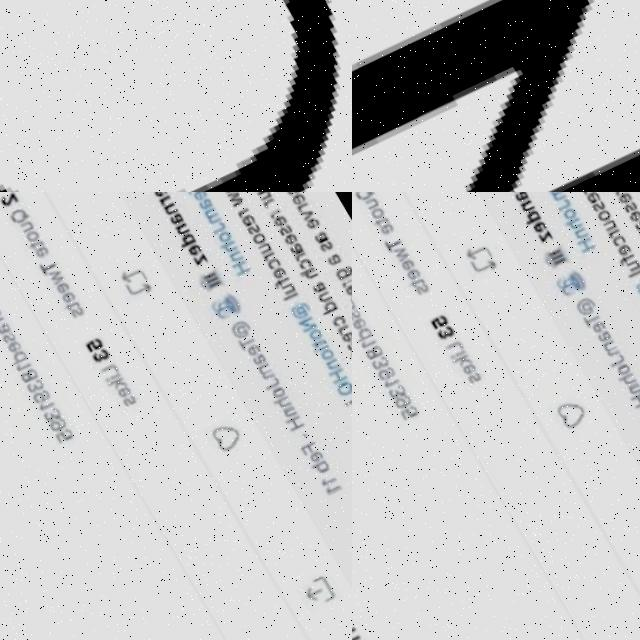1: (7, 356, 27, 371), (28, 395, 48, 410), (310, 467, 330, 482), (373, 372, 393, 387), (314, 473, 333, 488), (352, 333, 371, 348)
2: (0, 192, 14, 205)
3: (16, 375, 39, 393), (361, 352, 384, 370), (33, 403, 55, 421), (378, 380, 400, 398), (84, 344, 104, 360), (429, 321, 449, 337)
5: (79, 333, 99, 350), (424, 310, 444, 327), (46, 426, 67, 441), (391, 403, 412, 418)
8: (11, 365, 33, 383), (356, 342, 378, 360)
9: (23, 385, 45, 403), (368, 362, 390, 380), (39, 414, 60, 430), (384, 391, 405, 407)
W: (352, 0, 640, 192)
